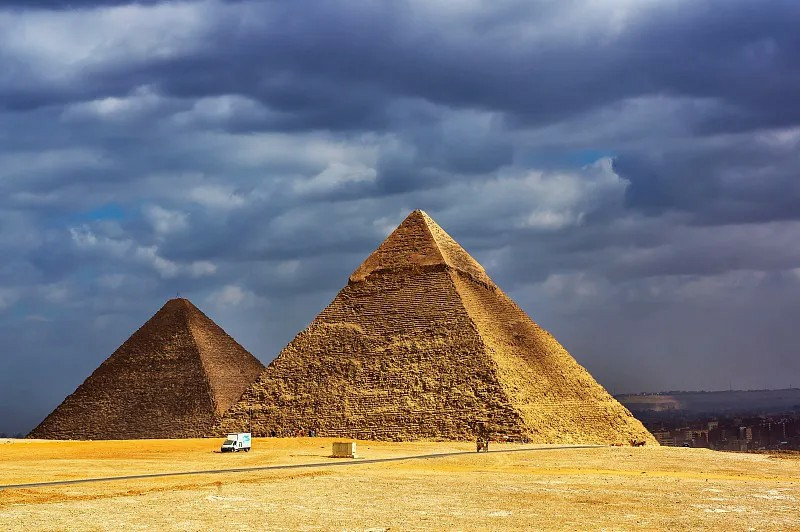Pyramid: (208, 210, 661, 446), (24, 299, 265, 437)
